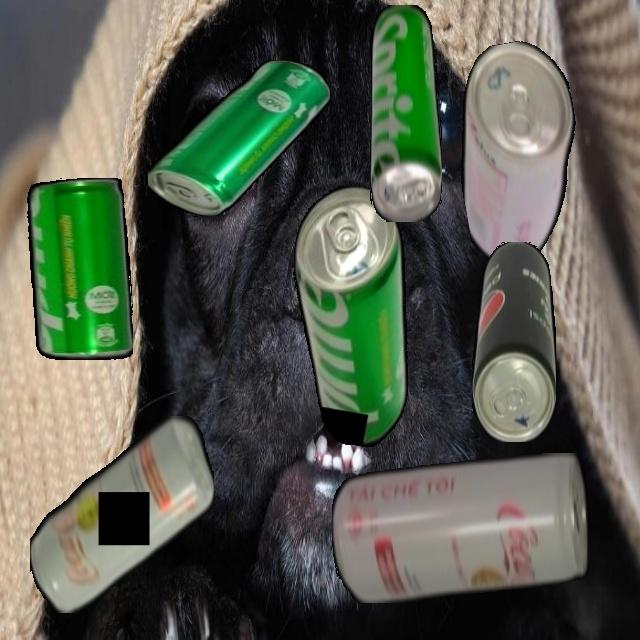debris: (263, 178, 441, 454), (331, 452, 590, 603), (439, 34, 598, 271), (29, 415, 214, 613), (147, 59, 330, 217), (26, 178, 133, 360), (471, 241, 556, 442), (369, 4, 442, 222)
